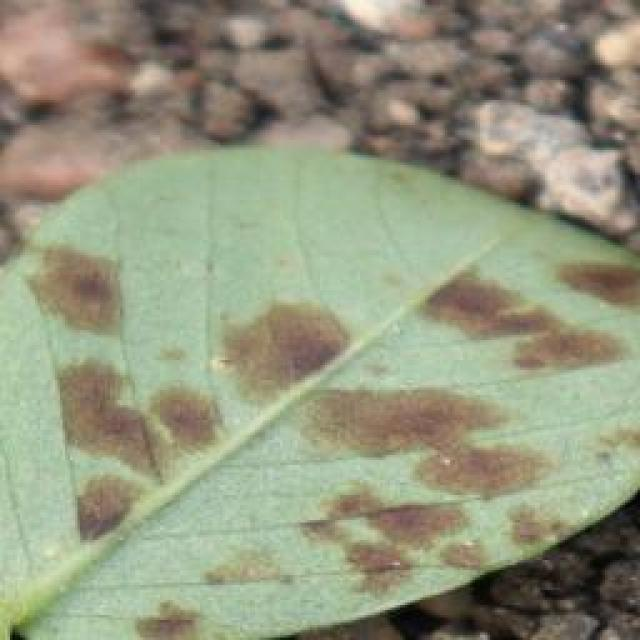Whitefly: (12, 214, 640, 628)
